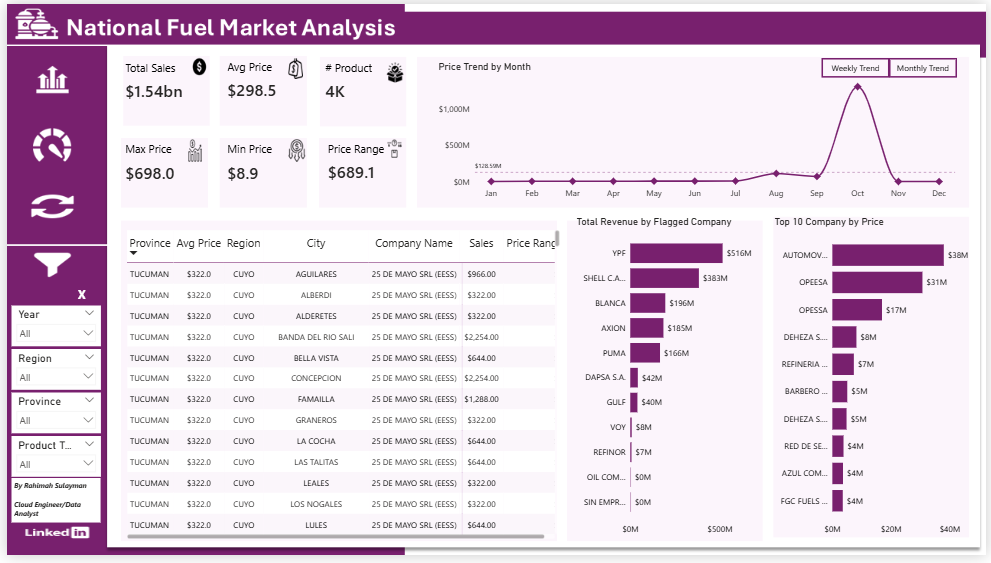

This screenshot's page, from the dashboard's own definition file:
{"tool":"powerbi","page":{"name":"Overview","canvas":[1920,1080],"ordinal":0},"visuals":[{"type":"actionButton","box":[1597.4,105.1,133.3,38.5],"z":0,"group":"g2"},{"type":"lineChart","title":"Price Trend by Month","fields":{"Y":["Calculated measures.Total price"],"Category":["Date_Dim.Month"]},"box":[841,112,1023.1,279.5],"z":0},{"type":"slicer","fields":{"Values":["Product_dim.Product Type"]},"box":[10.3,846.3,175,80],"z":0,"group":"g1"},{"type":"actionButton","box":[1730.7,105.1,133.3,38.5],"z":1000,"group":"g2"},{"type":"slicer","fields":{"Values":["Date_Dim.Year"]},"box":[10.3,589.9,175,80],"z":1000,"group":"g1"},{"type":"image","box":[28.2,989.7,138.5,89.7],"z":1000},{"type":"tableEx","fields":{"Values":["Region.Province","Calculated measures.Average Price","Region.Region","Region.City","Product_dim.Company Name","Calculated measures.Total price","Calculated measures.Price Range"]},"box":[228.2,438.5,859,615.4],"z":2000},{"type":"slicer","fields":{"Values":["Region.Province"]},"box":[10.3,760.8,175,80],"z":2000,"group":"g1"},{"type":"slicer","fields":{"Values":["Region.Region"]},"box":[10.3,675.4,175,80],"z":3000,"group":"g1"},{"type":"cardVisual","fields":{"Data":["Calculated measures.Max Price"]},"box":[202.6,228.2,241,161.5],"z":4000},{"type":"cardVisual","fields":{"Data":["Calculated measures.Price Range"]},"box":[600,228.2,241,159],"z":5000},{"type":"clusteredBarChart","title":"Top 10 Company by Price","fields":{"Y":["Calculated measures.Total price"],"Category":["Product_dim.Company Name"]},"box":[1500,414.3,420,637.1],"z":6000},{"type":"cardVisual","fields":{"Data":["Calculated measures.Min Price"]},"box":[402.6,228.2,241,161.5],"z":7000},{"type":"cardVisual","fields":{"Data":["Calculated measures.Product Count"]},"box":[600,69.2,241,159],"z":8000},{"type":"clusteredBarChart","title":"Total Revenue by Flagged Company","fields":{"Y":["Calculated measures.Total price"],"Category":["Product_dim.Flag Company"]},"box":[1112.8,415.4,387.2,635.9],"z":9000},{"type":"cardVisual","fields":{"Data":["Calculated measures.Total price"]},"box":[202.6,69.2,241,159],"z":10000},{"type":"cardVisual","fields":{"Data":["Calculated measures.Average Price"]},"box":[402.6,66.7,241,161.5],"z":11000},{"type":"group","id":"g1","title":"Group 1","box":[10.3,589.9,175,336.4],"z":12000},{"type":"textbox","box":[10.3,928.2,174.4,87.2],"z":13000},{"type":"actionButton","title":"X","box":[102.6,541,87.2,56.4],"z":14000},{"type":"actionButton","box":[0,1010.3,184.6,69.2],"z":15000},{"type":"actionButton","title":"Reset","box":[28.2,343.6,117.9,94.9],"z":16000},{"type":"actionButton","title":"Filter","box":[28.2,471.8,117.9,69.2],"z":17000},{"type":"pageNavigator","box":[30.8,110.3,117.9,212.8],"z":19000},{"type":"group","id":"g2","title":"Group 2","box":[1597.4,105.1,266.7,38.5],"z":20000}]}

Visuals, with their boxes in screenshot pixels (x1, y1, x2, y2), scaled from the page's 1920x1080 canvas onto the 991x563 screenshot:
actionButton: 824/55/893/75
"Price Trend by Month" lineChart: 434/58/962/204
slicer - Product_dim.Product Type: 5/441/96/483
actionButton: 893/55/962/75
slicer - Date_Dim.Year: 5/308/96/349
image: 15/516/86/562
tableEx - Region.Province x Calculated measures.Average Price: 118/229/561/549
slicer - Region.Province: 5/397/96/438
slicer - Region.Region: 5/352/96/394
cardVisual - Calculated measures.Max Price: 105/119/229/203
cardVisual - Calculated measures.Price Range: 310/119/434/202
"Top 10 Company by Price" clusteredBarChart: 774/216/990/548
cardVisual - Calculated measures.Min Price: 208/119/332/203
cardVisual - Calculated measures.Product Count: 310/36/434/119
"Total Revenue by Flagged Company" clusteredBarChart: 574/217/774/548
cardVisual - Calculated measures.Total price: 105/36/229/119
cardVisual - Calculated measures.Average Price: 208/35/332/119
"Group 1" group: 5/308/96/483
textbox: 5/484/95/529
"X" actionButton: 53/282/98/311
actionButton: 0/527/95/562
"Reset" actionButton: 15/179/75/229
"Filter" actionButton: 15/246/75/282
pageNavigator: 16/57/77/168
"Group 2" group: 824/55/962/75
